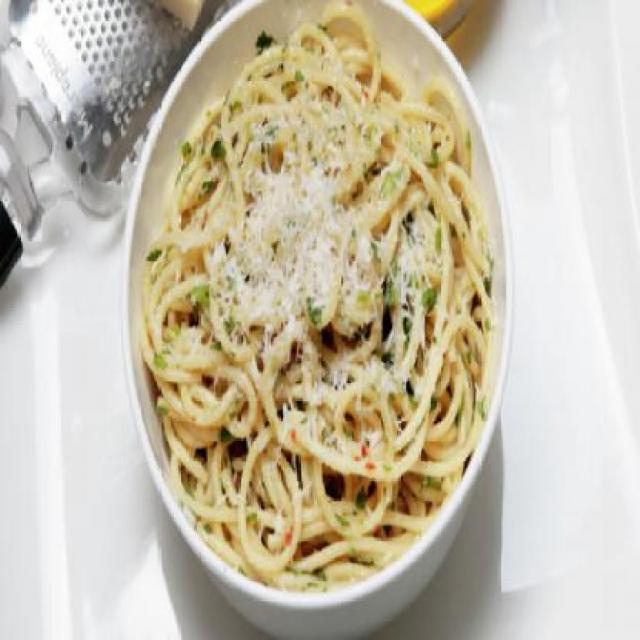Oil pasta: (136, 33, 533, 575)
